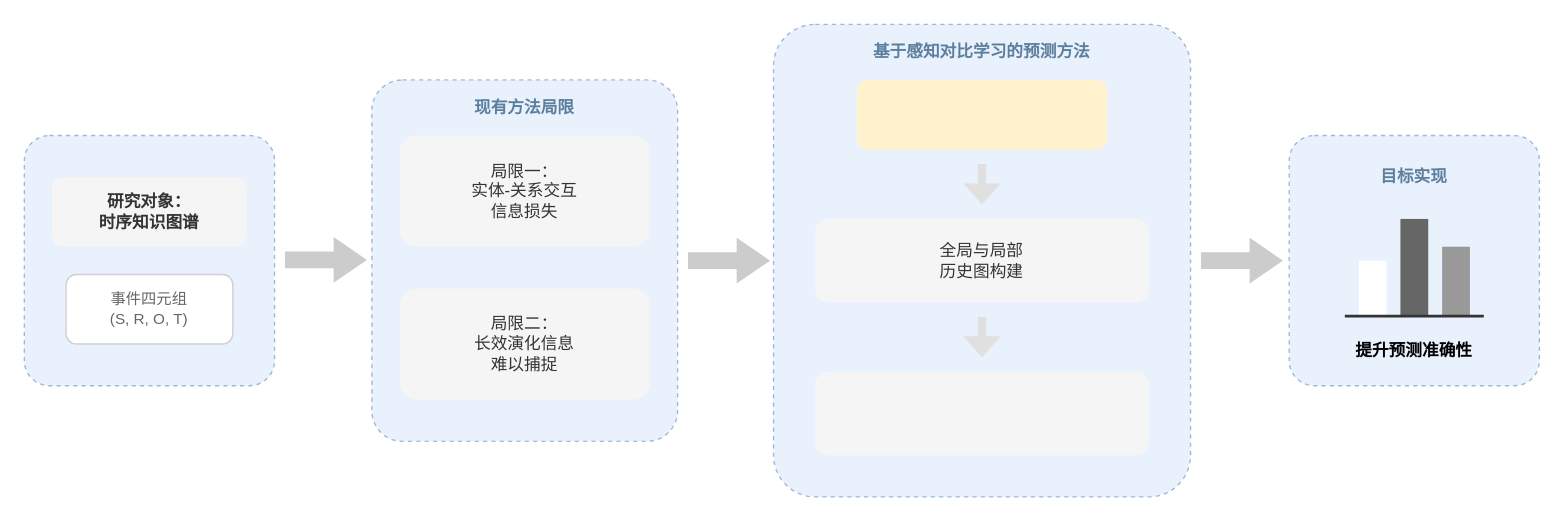
The diagram is 1564 pixels wide and 521 high, and some of its shapes have lost their labels. Each missing label, with the centre of its shape:
"多重动态嵌入与 关系图对比学习" belongs at [981,413].
"核心策略： 多层次感知对比" belongs at [981,114].
